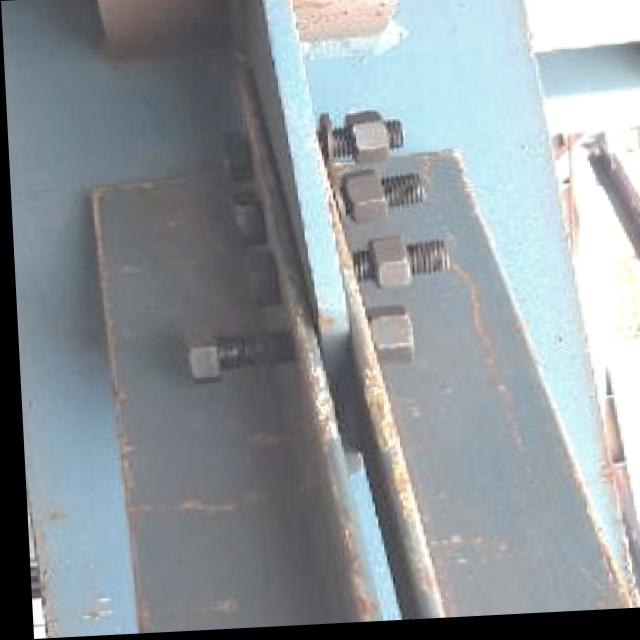Loose bolt: (186, 314, 442, 387), (340, 234, 460, 299), (319, 105, 416, 171)
Regular bolt: (341, 175, 438, 228)
